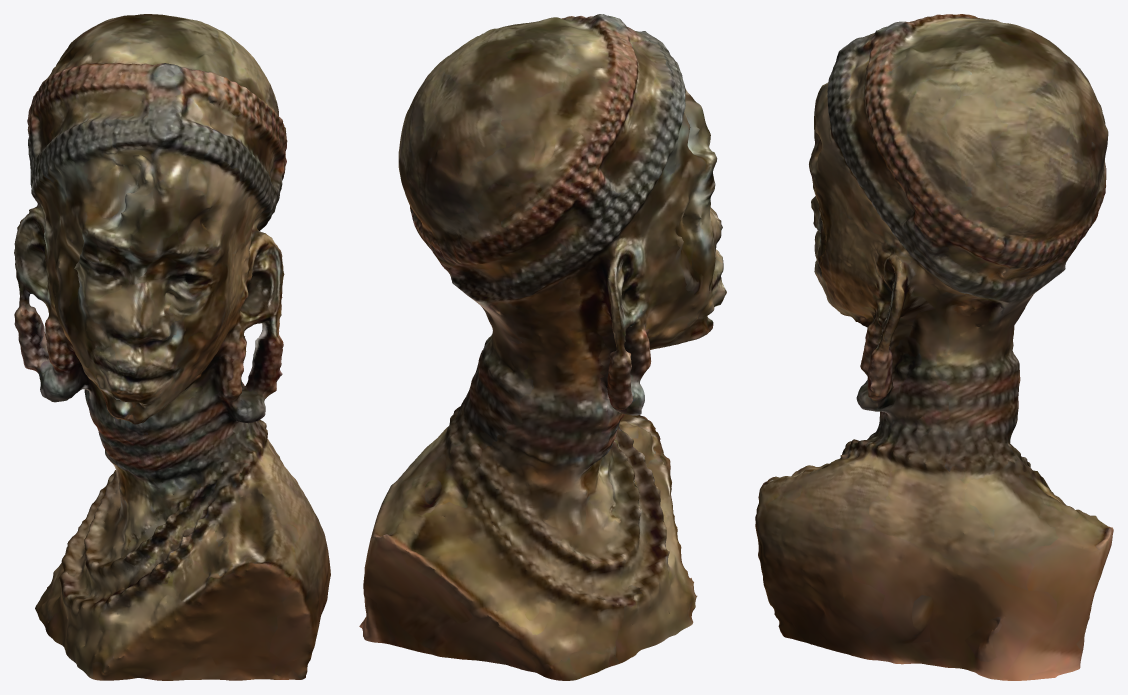
Rendered from preview.glb.
3 renders of one model, left to right at view 1: azimuth 30°, elevation 25°; view 2: azimuth 150°, elevation 25°; view 3: azimuth 270°, elevation 25°, orthographic. The views are drawn at different scales.
Parts seen in each view (by area): view 1: Object_5; view 2: Object_5; view 3: Object_5.
Part boxes in pixels (x1=…): Object_5: x1=14, y1=14, x2=330, y2=680; Object_5: x1=359, y1=14, x2=726, y2=680; Object_5: x1=755, y1=14, x2=1113, y2=680.
Size of the model in its own units: 0.144 by 0.3016 by 0.1697.
1 material, 1 textured.
